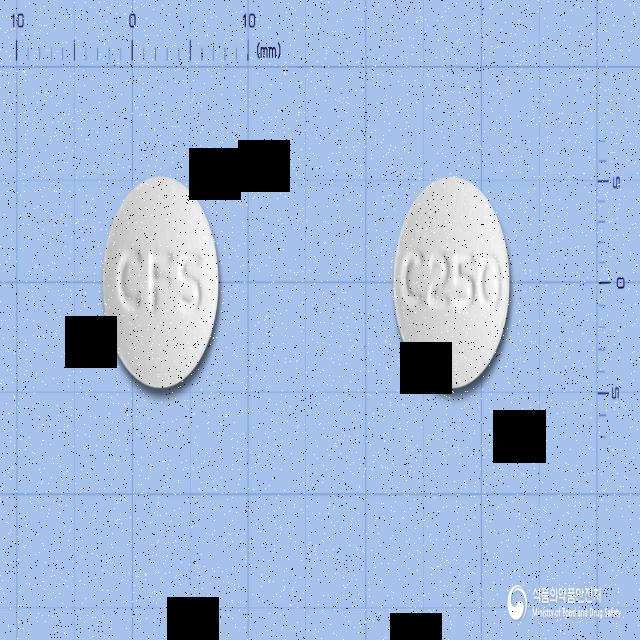Cipaxin: (390, 170, 514, 400), (99, 172, 224, 396)
